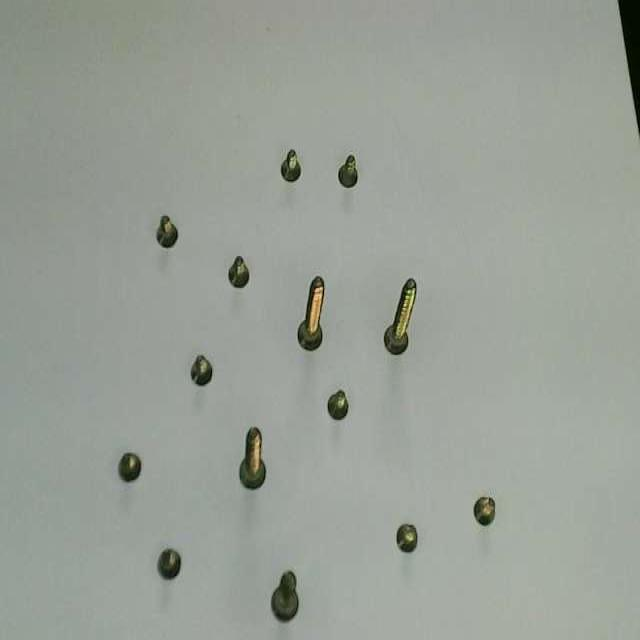Parafuso: (384, 279, 415, 354), (298, 276, 323, 350), (239, 427, 265, 489), (271, 571, 298, 621), (118, 452, 141, 482), (158, 548, 180, 579), (156, 215, 177, 247), (228, 256, 249, 287), (191, 355, 212, 385), (396, 523, 417, 553), (474, 496, 495, 526), (338, 155, 357, 187), (281, 150, 300, 182), (328, 390, 348, 419)
